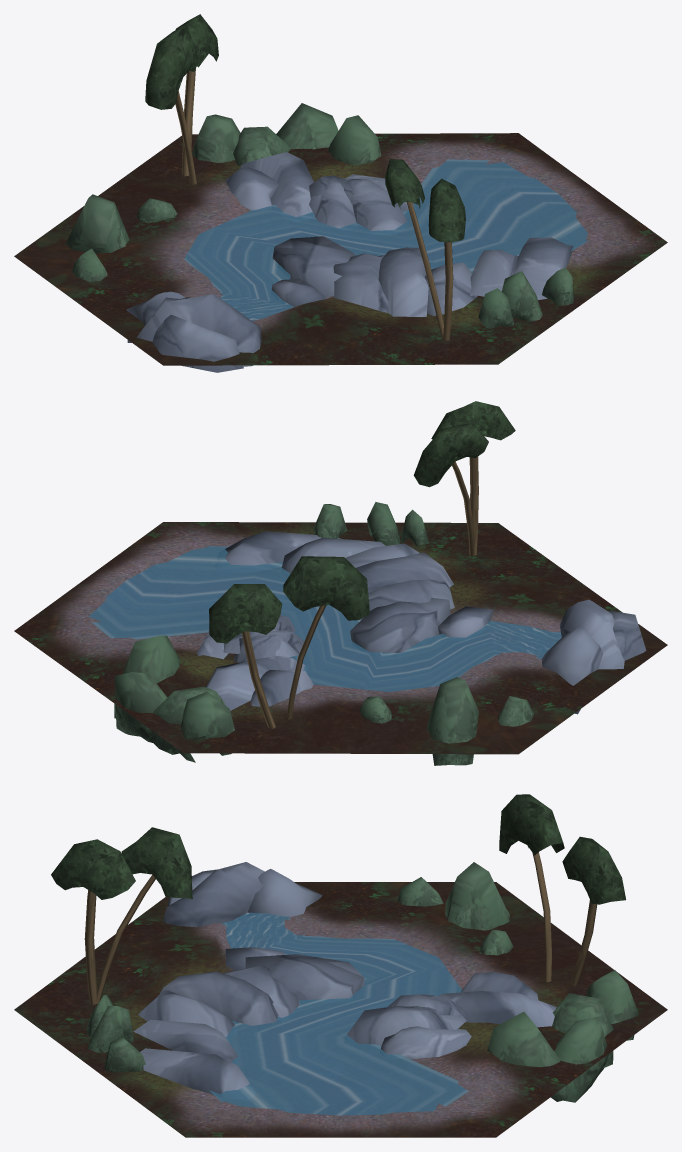
Rendered from RioMataAtlantica.fbx.
3 renders of one model, top to bottom at view 1: azimuth 30°, elevation 25°; view 2: azimuth 150°, elevation 25°; view 3: azimuth 270°, elevation 25°, orthographic. The views are drawn at different scales.
Visible parts, largest first — view 1: RioMataAtlanticaTile; view 2: RioMataAtlanticaTile; view 3: RioMataAtlanticaTile.
Boxes of the visible parts, x1=… form: RioMataAtlanticaTile: x1=14, y1=14, x2=667, y2=372; RioMataAtlanticaTile: x1=14, y1=401, x2=667, y2=765; RioMataAtlanticaTile: x1=14, y1=794, x2=667, y2=1137.
Size of the model in its own units: 516 by 200 by 557.
